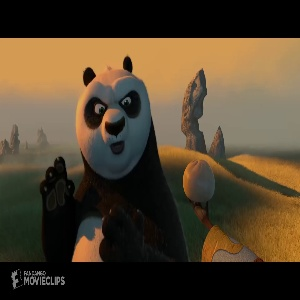po: (38, 54, 190, 262)
